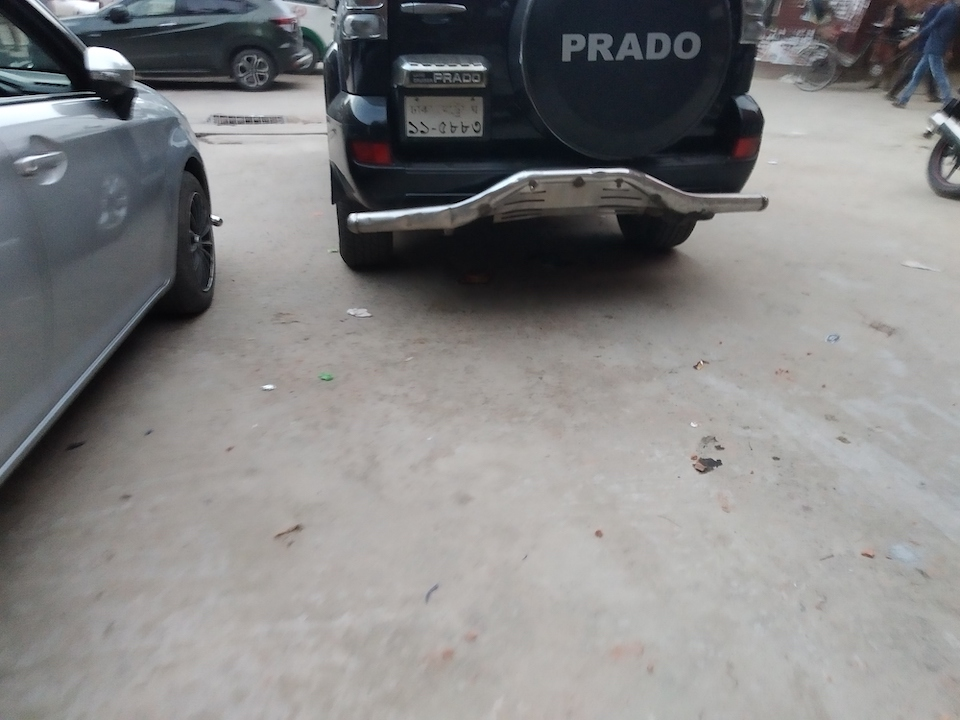registration_plate: (403, 95, 485, 138)
